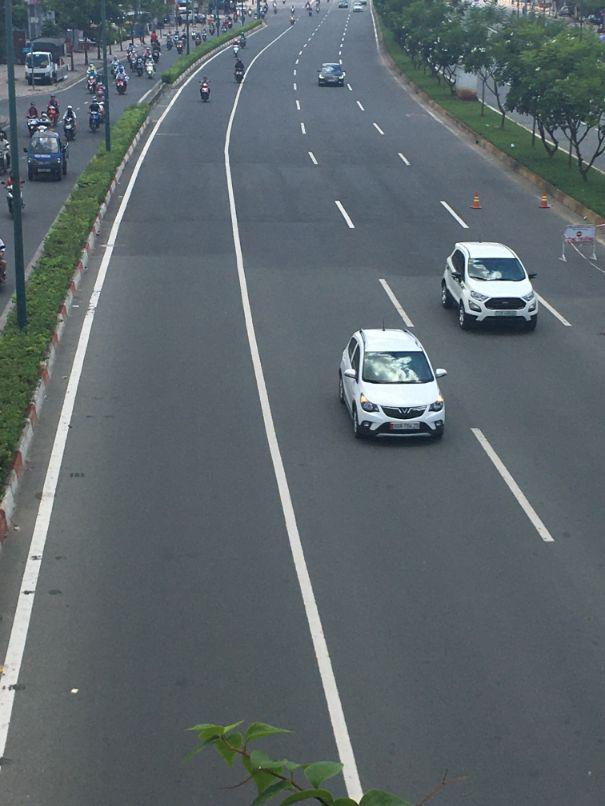car: (336, 324, 446, 446), (440, 240, 542, 334), (318, 61, 345, 87)
motorbike: (89, 104, 102, 132), (115, 69, 129, 94), (201, 78, 212, 100)
truck: (27, 122, 72, 184), (26, 37, 77, 87)
